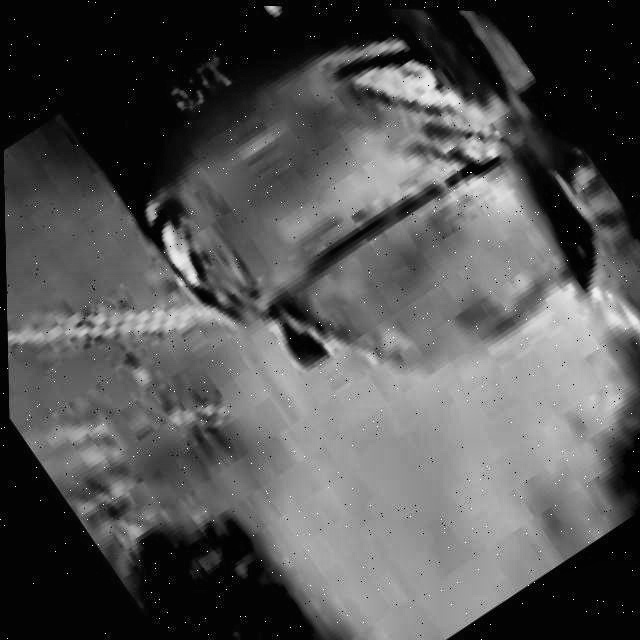Smoke: (139, 144, 640, 640)
